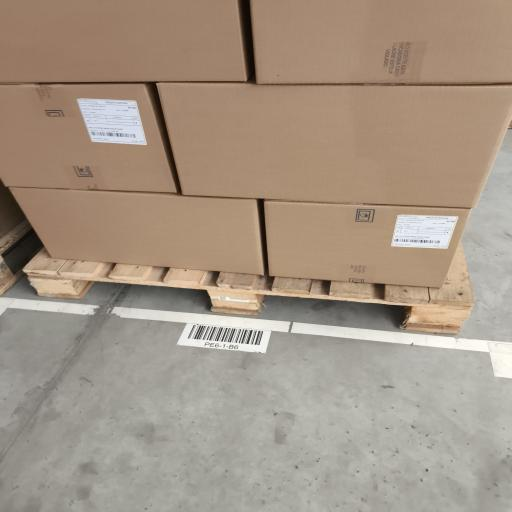pallet: (24, 246, 473, 333), (0, 220, 41, 296)
